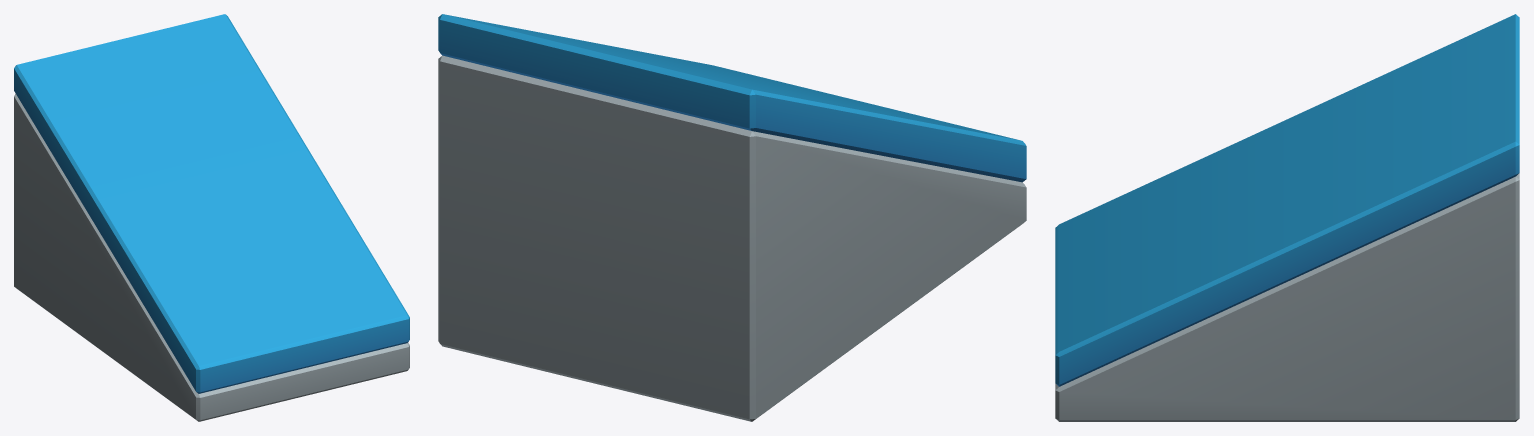
File: platform_slope_4x6x4_blue.glb
The picture shows the model from 3 angles, left to right: view 1: azimuth 30°, elevation 25°; view 2: azimuth 150°, elevation 25°; view 3: azimuth 270°, elevation 25°; orthographic projection. The views are drawn at different scales.
Visible parts, largest first — view 1: platform_slope_4x6x4_blue; view 2: platform_slope_4x6x4_blue; view 3: platform_slope_4x6x4_blue.
Boxes of the visible parts, bbox=[...] form: platform_slope_4x6x4_blue: bbox=[14, 14, 409, 421]; platform_slope_4x6x4_blue: bbox=[438, 14, 1026, 421]; platform_slope_4x6x4_blue: bbox=[1055, 14, 1519, 421].
Bounding box in the file's own units: 4 × 4 × 6.
Materials: 1 (1 with a texture image).
